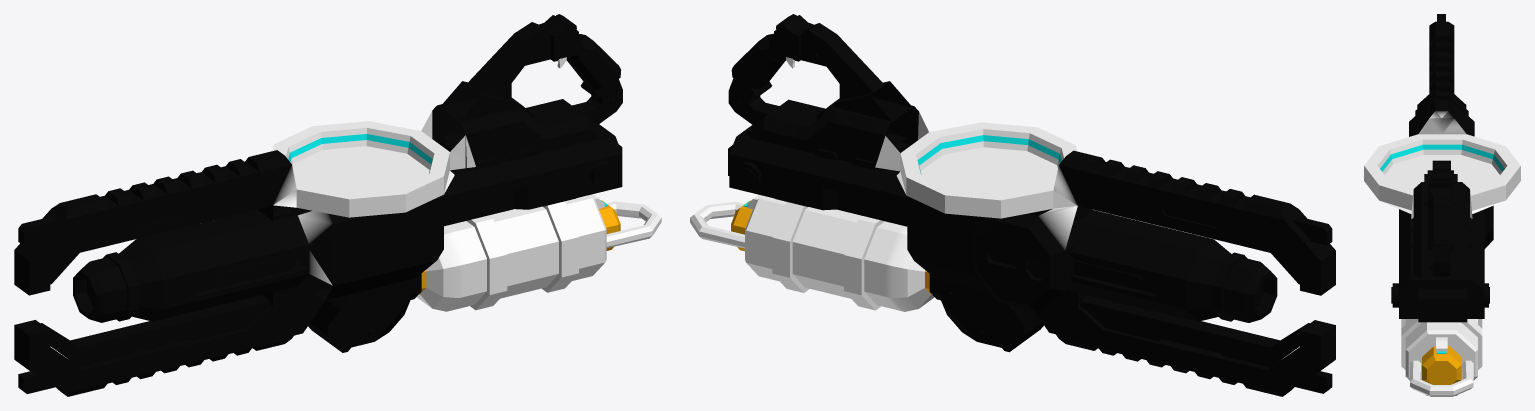
File: gun move.fbx
3 renders of one model, left to right at view 1: azimuth 30°, elevation 25°; view 2: azimuth 150°, elevation 25°; view 3: azimuth 270°, elevation 25°, orthographic. The views are drawn at different scales.
Parts seen in each view (by area): view 1: SM_FT01_Cylinder; view 2: SM_FT01_Cylinder; view 3: SM_FT01_Cylinder.
Boxes of the visible parts, x1,y1,x2,y2 form: SM_FT01_Cylinder: [14, 14, 661, 396]; SM_FT01_Cylinder: [690, 14, 1335, 396]; SM_FT01_Cylinder: [1364, 14, 1520, 396].
Size of the model in its own units: 100 by 40 by 25.45.
